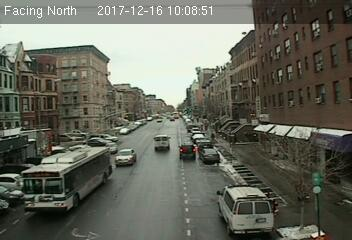bus: (22, 145, 114, 213)
car: (114, 148, 136, 166), (178, 143, 197, 159), (201, 148, 220, 162)
police: (213, 183, 274, 233)
truck: (152, 134, 171, 151)
